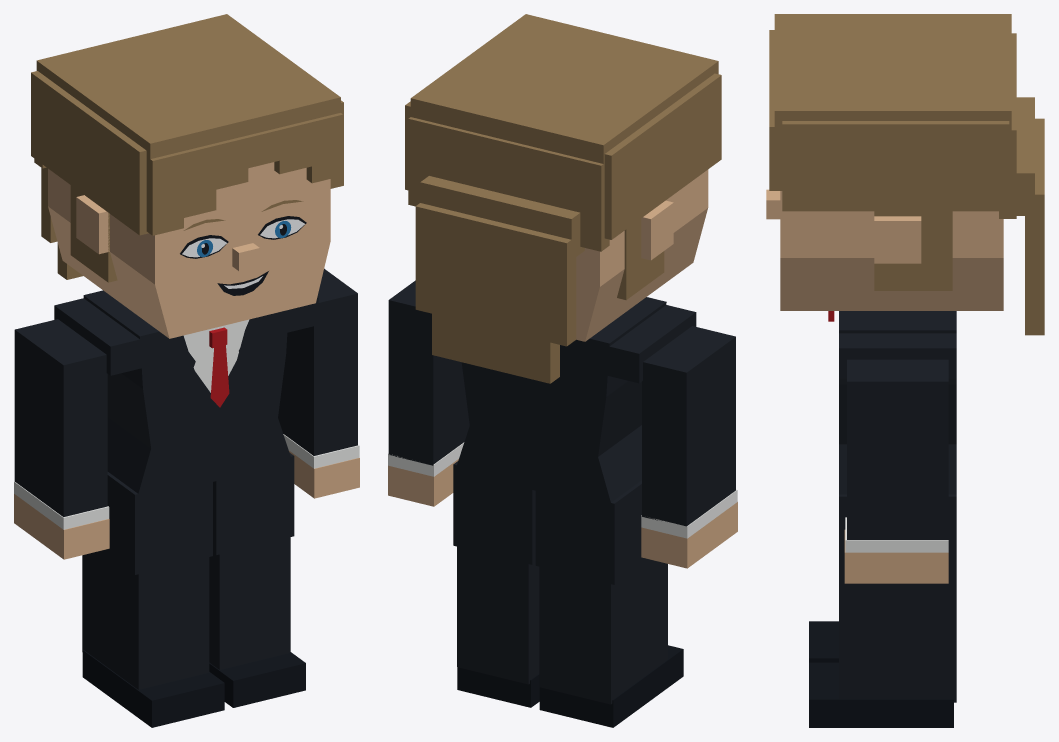
The model's file is female_long.glb.
3 renders of one model, left to right at view 1: azimuth 30°, elevation 25°; view 2: azimuth 150°, elevation 25°; view 3: azimuth 270°, elevation 25°, orthographic. The views are drawn at different scales.
Parts seen in each view (by area): view 1: char_hair_visual, char_torso_visual, char_head_visual, char_leg_negx_visual, char_arm_negx_visual, char_leg_posx_visual, char_arm_posx_visual, char_hand_negx_visual, char_hand_posx_visual, char_eye_negx_visual, char_eye_posx_visual; view 2: char_hair_visual, char_torso_visual, char_leg_negx_visual, char_arm_negx_visual, char_leg_posx_visual, char_arm_posx_visual, char_head_visual, char_hand_negx_visual, char_hand_posx_visual; view 3: char_hair_visual, char_arm_posx_visual, char_leg_posx_visual, char_head_visual, char_torso_visual, char_hand_posx_visual, char_leg_negx_visual.
Boxes of the visible parts, x1,y1,x2,y2 form: char_hair_visual: (31, 14, 343, 282); char_torso_visual: (54, 290, 318, 574); char_head_visual: (48, 162, 330, 338); char_leg_negx_visual: (82, 550, 224, 727); char_arm_negx_visual: (14, 319, 109, 529); char_leg_posx_visual: (209, 532, 305, 707); char_arm_posx_visual: (278, 268, 359, 468); char_hand_negx_visual: (14, 494, 109, 559); char_hand_posx_visual: (288, 450, 359, 498); char_eye_negx_visual: (180, 235, 228, 258); char_eye_posx_visual: (258, 216, 306, 239); char_hair_visual: (405, 14, 721, 383); char_torso_visual: (428, 297, 696, 584); char_leg_negx_visual: (539, 559, 683, 727); char_arm_negx_visual: (641, 326, 737, 538); char_leg_posx_visual: (457, 546, 539, 707); char_arm_posx_visual: (388, 280, 469, 476); char_head_visual: (576, 169, 708, 341); char_hand_negx_visual: (641, 502, 737, 568); char_hand_posx_visual: (388, 459, 458, 506); char_hair_visual: (769, 14, 1044, 335); char_arm_posx_visual: (845, 359, 948, 552); char_leg_posx_visual: (809, 580, 956, 727); char_head_visual: (766, 189, 1003, 310); char_torso_visual: (828, 311, 956, 580); char_hand_posx_visual: (844, 530, 948, 583); char_leg_negx_visual: (809, 621, 838, 662).
Size of the model in its own units: 0.91 by 1.77 by 0.711.
